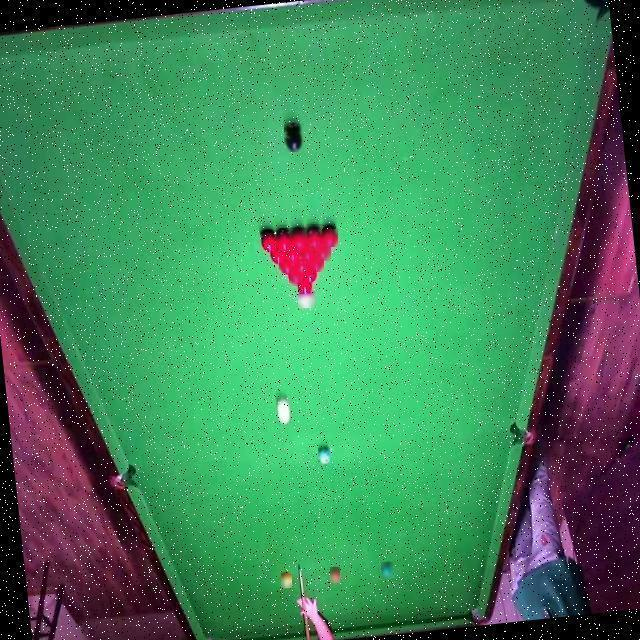Ball: (284, 124, 304, 152), (304, 224, 323, 250), (289, 228, 307, 251), (259, 229, 276, 253), (275, 230, 292, 251), (277, 399, 292, 421), (298, 291, 315, 308), (322, 229, 338, 247), (270, 247, 286, 264), (316, 243, 331, 261), (309, 254, 324, 272), (279, 257, 294, 273), (289, 269, 303, 286), (303, 269, 317, 286), (300, 246, 314, 262), (318, 448, 330, 466), (284, 245, 299, 259), (294, 257, 308, 272), (381, 562, 393, 579), (297, 283, 313, 294), (281, 573, 292, 588), (330, 567, 340, 583)
